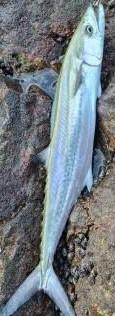fish: (2, 3, 105, 315)
